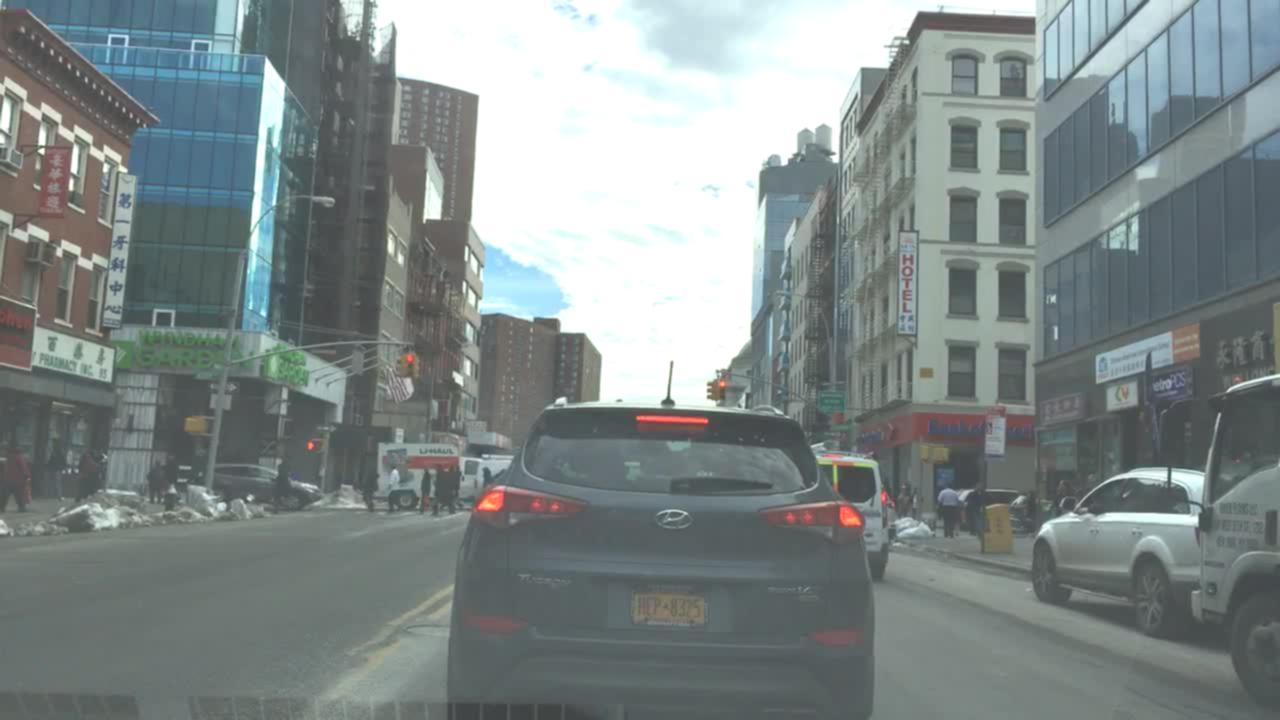Hyundai: (648, 500, 695, 538)
